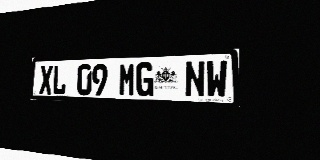0: (77, 64, 92, 95)
9: (92, 63, 108, 96)
G: (136, 62, 154, 97)
L: (52, 65, 67, 95)
M: (119, 63, 136, 96)
N: (185, 60, 205, 98)
W: (206, 60, 228, 98)
X: (39, 65, 53, 94)
